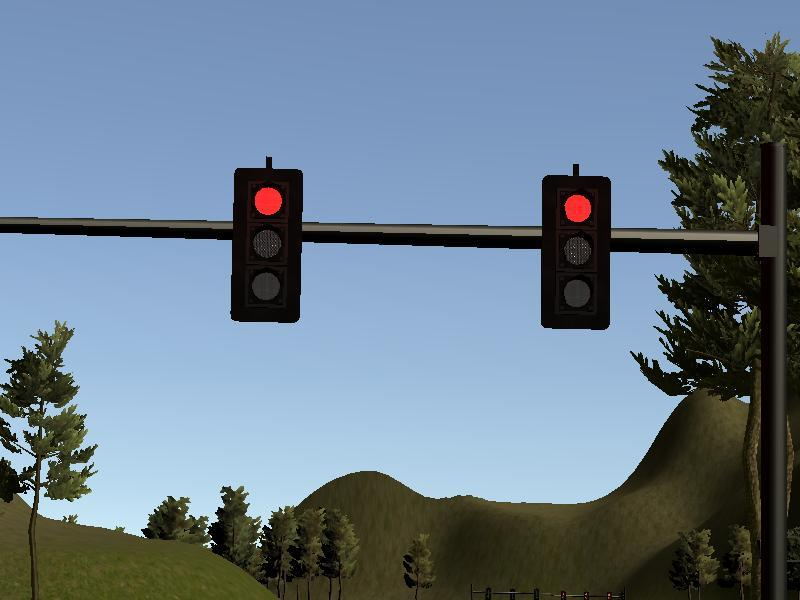Red: (232, 168, 302, 322), (540, 175, 610, 329)
